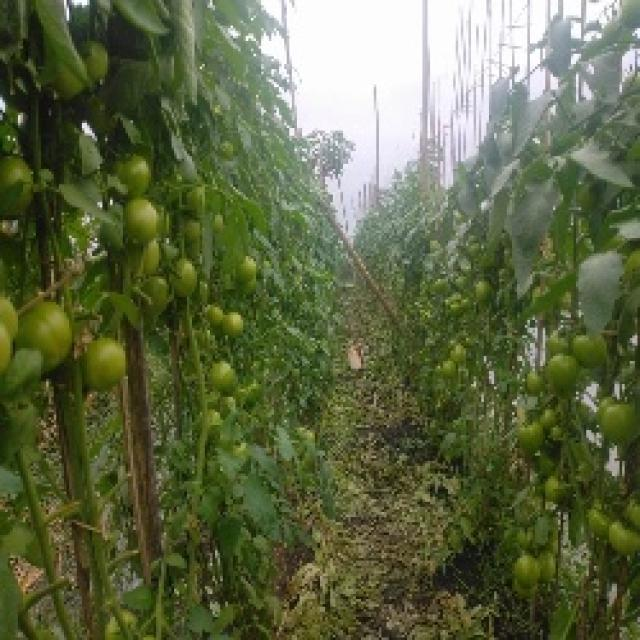tomato: (1, 280, 76, 369), (80, 338, 135, 405), (563, 323, 616, 380), (594, 380, 639, 444), (124, 190, 163, 252), (1, 155, 32, 224), (162, 253, 205, 298), (510, 555, 545, 597), (228, 251, 260, 290), (539, 345, 573, 381), (603, 510, 633, 548), (191, 399, 225, 431), (202, 363, 232, 396), (511, 420, 538, 451), (447, 289, 472, 321), (586, 497, 610, 530), (220, 316, 245, 345), (438, 352, 457, 388), (128, 147, 144, 186), (623, 500, 640, 526), (474, 278, 489, 299), (215, 304, 227, 319)
